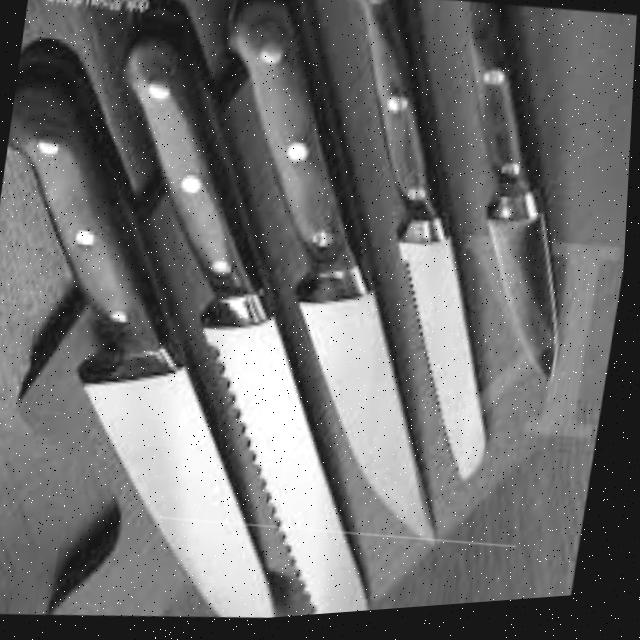knife: (44, 9, 451, 636), (0, 38, 355, 639), (156, 0, 516, 573), (284, 0, 552, 504), (417, 0, 608, 408)
